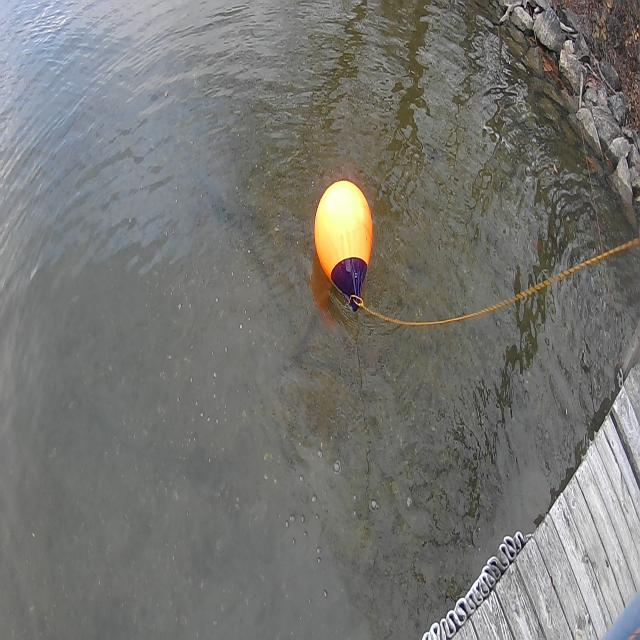Buoy: (309, 174, 378, 308)
